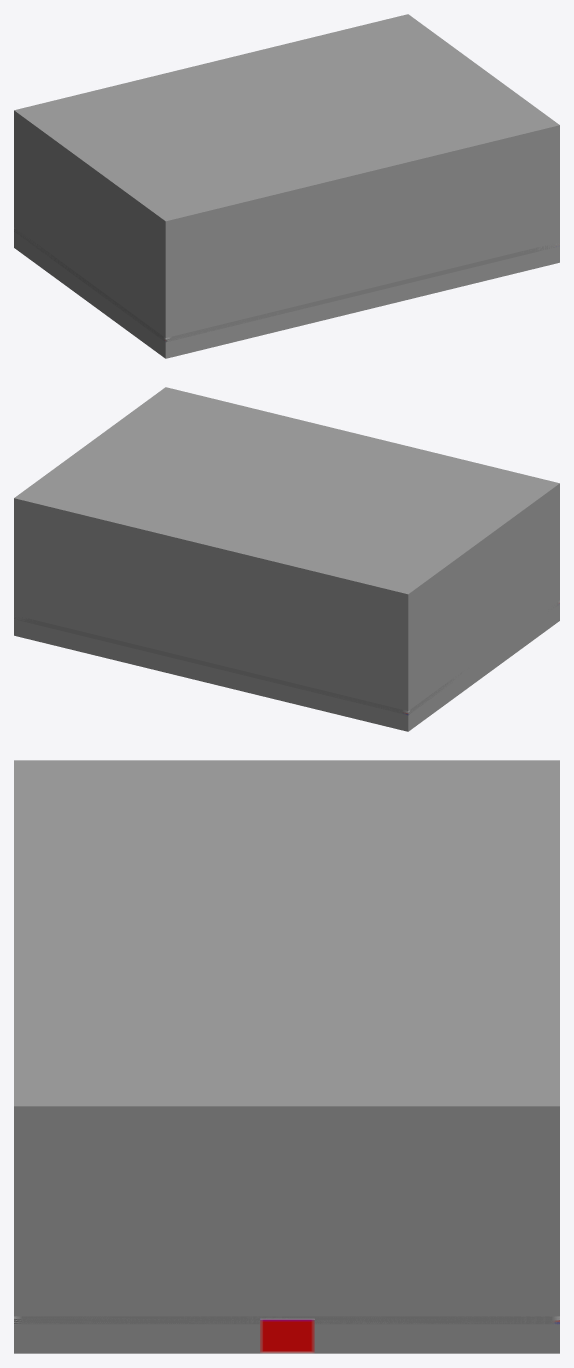
The model's file is bigSolarPanel.obj.
3 renders of one model, top to bottom at view 1: azimuth 30°, elevation 25°; view 2: azimuth 150°, elevation 25°; view 3: azimuth 270°, elevation 25°, orthographic. The views are drawn at different scales.
Visible parts, largest first — view 1: Minecraft_Block_Cube, Minecraft_Block.005_Cube.005, Minecraft_Block.004_Cube.004, Minecraft_Block.001_Cube.001, Minecraft_Block.002_Cube.002, Minecraft_Block.003_Cube.003, Cube_Cube.006; view 2: Minecraft_Block.001_Cube.001, Minecraft_Block.003_Cube.003, Minecraft_Block.002_Cube.002, Minecraft_Block_Cube, Minecraft_Block.004_Cube.004, Minecraft_Block.005_Cube.005, Cube_Cube.006; view 3: Minecraft_Block.005_Cube.005, Minecraft_Block.003_Cube.003, Minecraft_Block.004_Cube.004, Minecraft_Block.002_Cube.002, Minecraft_Block.001_Cube.001, Minecraft_Block_Cube, Cube_Cube.006, Cube.002_Cube.008.
Boxes of the visible parts, x1=… form: Minecraft_Block_Cube: x1=90, y1=134, x2=296, y2=358; Minecraft_Block.005_Cube.005: x1=353, y1=69, x2=559, y2=294; Minecraft_Block.004_Cube.004: x1=221, y1=101, x2=428, y2=326; Minecraft_Block.001_Cube.001: x1=14, y1=78, x2=220, y2=302; Minecraft_Block.002_Cube.002: x1=145, y1=46, x2=352, y2=133; Minecraft_Block.003_Cube.003: x1=277, y1=14, x2=483, y2=101; Cube_Cube.006: x1=14, y1=227, x2=559, y2=342; Minecraft_Block.001_Cube.001: x1=277, y1=507, x2=483, y2=731; Minecraft_Block.003_Cube.003: x1=14, y1=442, x2=220, y2=667; Minecraft_Block.002_Cube.002: x1=145, y1=474, x2=352, y2=699; Minecraft_Block_Cube: x1=353, y1=451, x2=559, y2=675; Minecraft_Block.004_Cube.004: x1=221, y1=419, x2=428, y2=506; Minecraft_Block.005_Cube.005: x1=90, y1=387, x2=296, y2=474; Cube_Cube.006: x1=14, y1=600, x2=559, y2=715; Minecraft_Block.005_Cube.005: x1=14, y1=991, x2=286, y2=1353; Minecraft_Block.003_Cube.003: x1=287, y1=991, x2=559, y2=1353; Minecraft_Block.004_Cube.004: x1=14, y1=875, x2=286, y2=990; Minecraft_Block.002_Cube.002: x1=287, y1=875, x2=559, y2=990; Minecraft_Block.001_Cube.001: x1=287, y1=760, x2=559, y2=875; Minecraft_Block_Cube: x1=14, y1=760, x2=286, y2=875; Cube_Cube.006: x1=14, y1=1316, x2=559, y2=1324; Cube.002_Cube.008: x1=260, y1=1318, x2=314, y2=1353.
Bounding box in the file's own units: 3.01 × 1 × 2.
3 materials, 2 textured.
